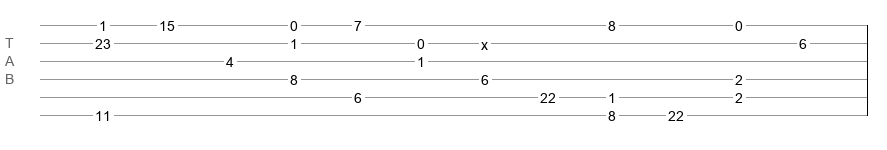0: (290, 18, 298, 28), (417, 36, 425, 46), (735, 18, 743, 28)
1: (99, 18, 107, 28), (290, 36, 298, 46), (417, 54, 425, 64), (608, 90, 616, 100)
11: (95, 108, 111, 118)
15: (159, 18, 175, 28)
2: (735, 90, 743, 100), (735, 72, 743, 82)
22: (540, 90, 556, 100), (668, 108, 684, 118)
23: (95, 36, 111, 46)
4: (226, 54, 234, 64)
6: (354, 90, 362, 100), (481, 72, 489, 82), (799, 36, 807, 46)
7: (354, 18, 362, 28)
8: (290, 72, 298, 82), (608, 18, 616, 28), (608, 108, 616, 118)
x: (481, 37, 488, 45)
